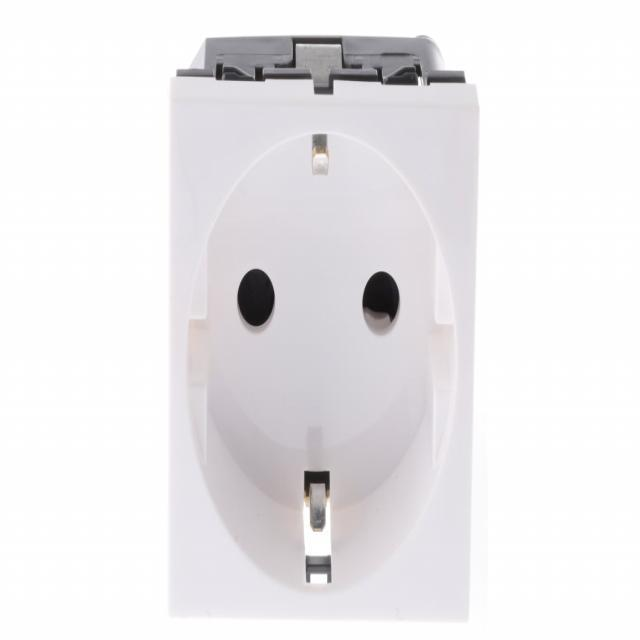typeb: (129, 32, 488, 634)
